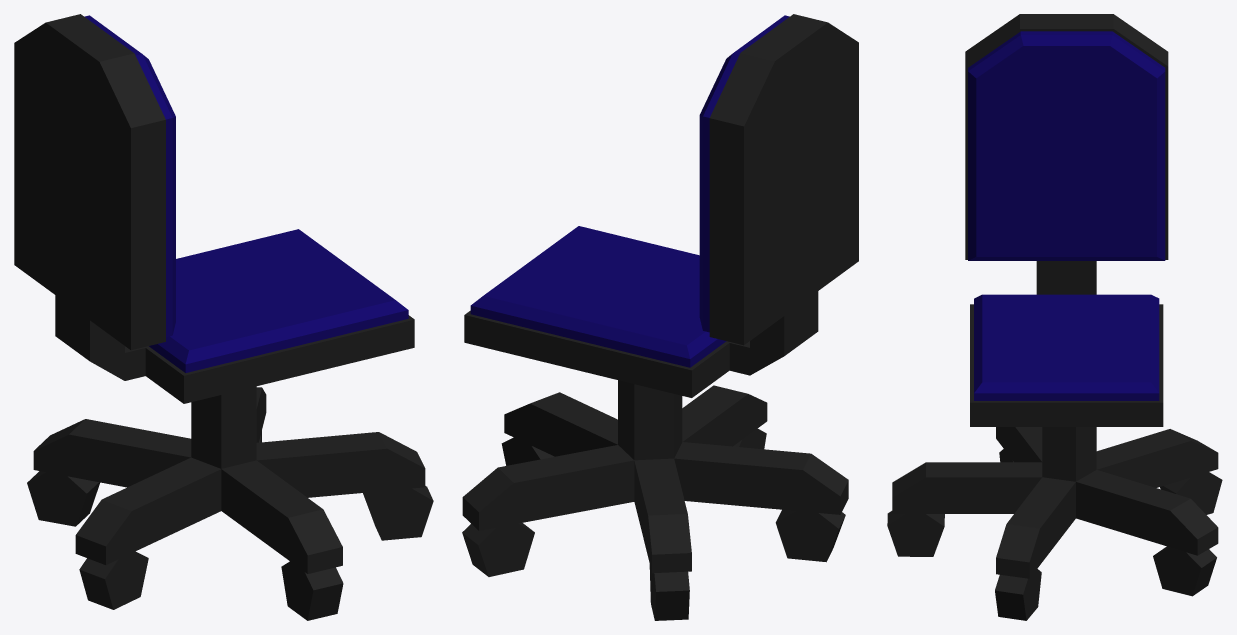
The model's file is Chair.fbx.
3 renders of one model, left to right at view 1: azimuth 30°, elevation 25°; view 2: azimuth 150°, elevation 25°; view 3: azimuth 270°, elevation 25°, orthographic. The views are drawn at different scales.
Visible parts, largest first — view 1: Chair, Base, Cylinder.004, Cylinder, Cylinder.003, Cylinder.002; view 2: Chair, Base, Cylinder.001, Cylinder.003, Cylinder.004, Cylinder; view 3: Chair, Base, Cylinder.001, Cylinder.002, Cylinder, Cylinder.004.
Part boxes in pixels (box(x1,y1,x2,y2)): Chair: box(14, 14, 414, 403); Base: box(33, 386, 425, 573); Cylinder.004: box(27, 471, 100, 526); Cylinder: box(363, 486, 433, 540); Cylinder.003: box(79, 551, 148, 609); Cylinder.002: box(281, 561, 343, 620); Chair: box(464, 14, 858, 397); Base: box(462, 380, 848, 573); Cylinder.001: box(462, 523, 534, 576); Cylinder.003: box(775, 509, 845, 562); Cylinder.004: box(649, 564, 689, 620); Cylinder: box(501, 437, 554, 465); Chair: box(965, 14, 1168, 426); Base: box(892, 427, 1218, 578); Cylinder.001: box(1153, 546, 1216, 596); Cylinder.002: box(887, 511, 944, 556); Cylinder: box(995, 569, 1041, 620); Cylinder.004: box(1160, 472, 1222, 514).
Size of the model in its own units: 1162 by 1731 by 1115.
